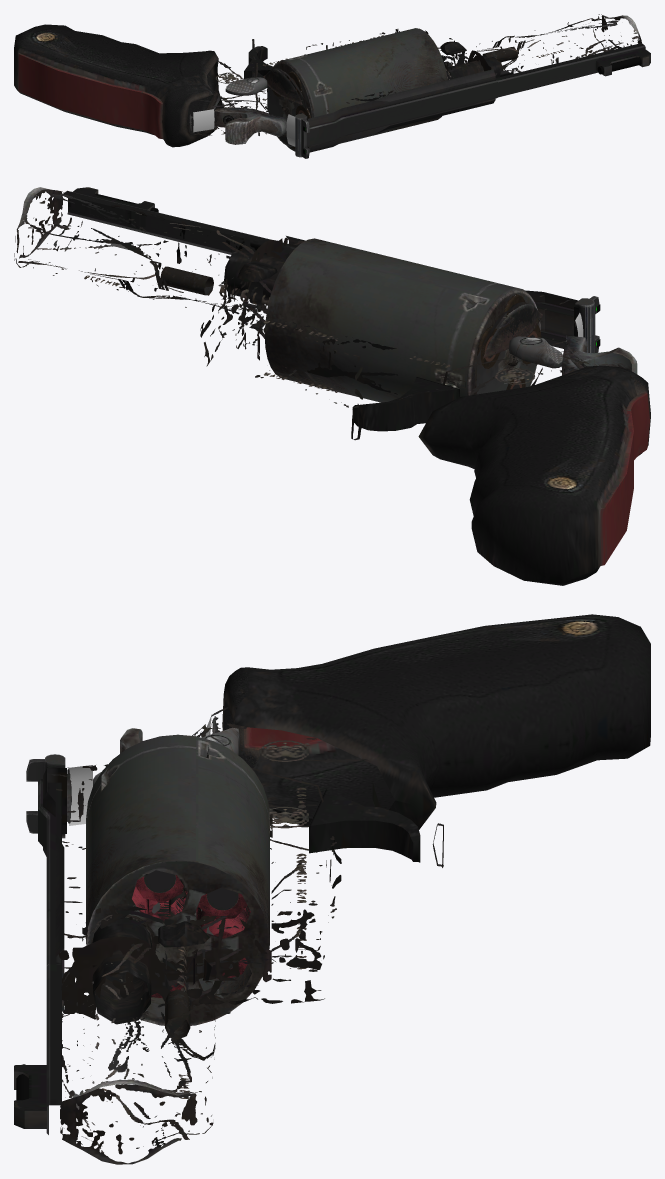
File: t6_wpn_pistol_judge_view_lh_LOD0.obj
3 renders of one model, top to bottom at view 1: azimuth 30°, elevation 25°; view 2: azimuth 150°, elevation 25°; view 3: azimuth 270°, elevation 25°, orthographic. The views are drawn at different scales.
Parts seen in each view (by area): view 1: mtl_t6_wpn_pistol_judge_camo2, mtl_t6_wpn_pistol_judge_camo1, mtl_t6_wpn_pistol_judge, mtl_t6_wpn_pistol_judge_camo3, mtl_player_icon, mtl_t6_wpn_pistol_judge_shell, mtl_t6_attach_tritium_red_glo, mtl_clan_tag; view 2: mtl_t6_wpn_pistol_judge_camo2, mtl_t6_wpn_pistol_judge, mtl_t6_wpn_pistol_judge_camo1, mtl_t6_wpn_pistol_judge_camo3, mtl_t6_wpn_pistol_judge_shell; view 3: mtl_t6_wpn_pistol_judge_camo2, mtl_t6_wpn_pistol_judge, mtl_t6_wpn_pistol_judge_camo1, mtl_t6_wpn_pistol_judge_shell, mtl_clan_tag.
Boxes of the visible parts, x1,y1,x2,y2 form: mtl_t6_wpn_pistol_judge_camo2: (14,24,645,147); mtl_t6_wpn_pistol_judge_camo1: (18,41,650,158); mtl_t6_wpn_pistol_judge: (187,14,644,152); mtl_t6_wpn_pistol_judge_camo3: (263,69,302,146); mtl_player_icon: (193,109,214,132); mtl_t6_wpn_pistol_judge_shell: (272,71,311,149); mtl_t6_attach_tritium_red_glo: (597,57,641,74); mtl_clan_tag: (286,114,295,146); mtl_t6_wpn_pistol_judge_camo2: (67,197,650,585); mtl_t6_wpn_pistol_judge: (14,187,589,440); mtl_t6_wpn_pistol_judge_camo1: (73,187,649,565); mtl_t6_wpn_pistol_judge_camo3: (483,304,542,386); mtl_t6_wpn_pistol_judge_shell: (477,294,541,389); mtl_t6_wpn_pistol_judge_camo2: (38,614,650,1134); mtl_t6_wpn_pistol_judge: (40,707,443,1164); mtl_t6_wpn_pistol_judge_camo1: (14,727,420,1128); mtl_t6_wpn_pistol_judge_shell: (132,870,250,998); mtl_clan_tag: (69,765,92,825).
Size of the model in its own units: 41.78 by 6.95 by 24.06.
